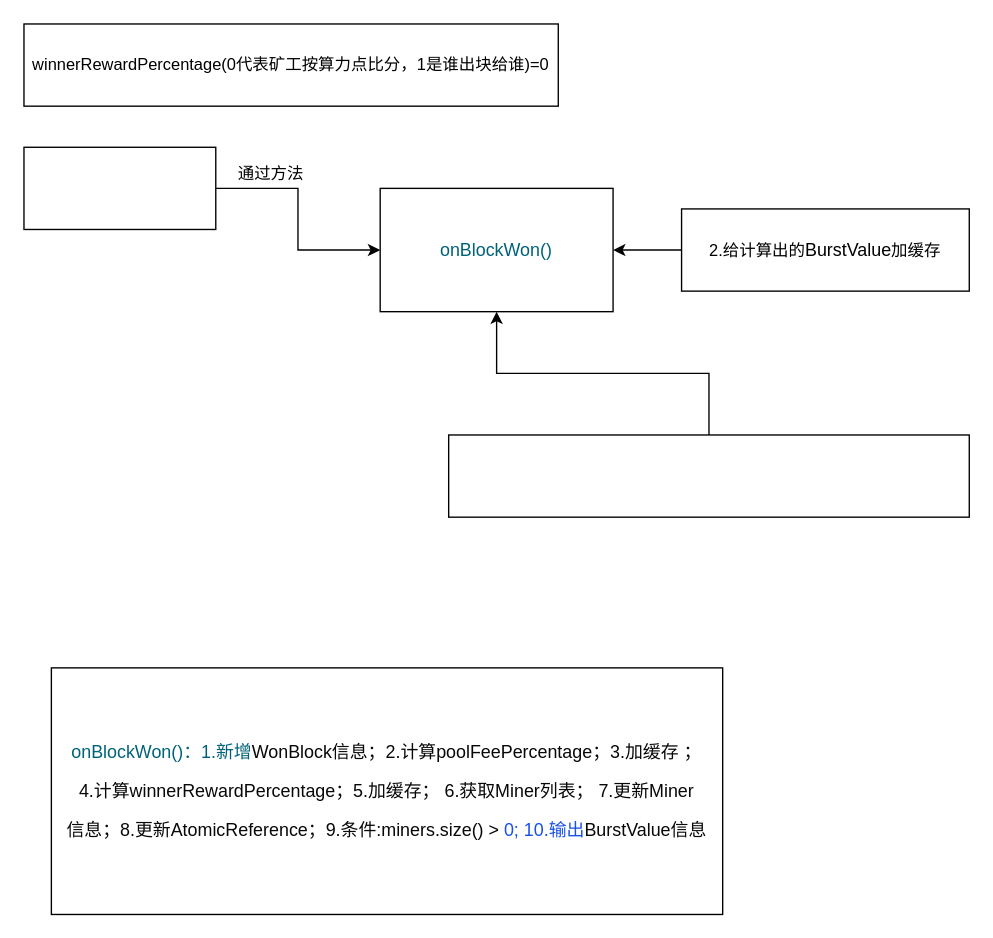
This 993x938 diagram has some shape labels left out. The centre of each missing label's shape, as x and y in pixels:
"1.调用 propertyService .getFloat() winnerRewardPercentage 获取 接口参与计算" belongs at point (708, 475).
"类：MinerTracker.java" belongs at point (119, 187).
